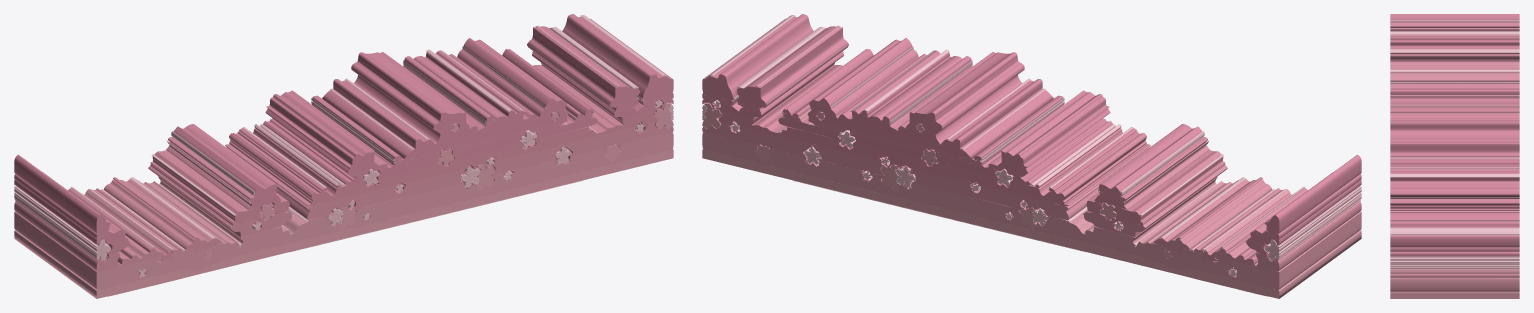
Rendered from cherry_blossoms_3D.fbx.
3 views of the same model, side by side, from view 1: azimuth 30°, elevation 25°; view 2: azimuth 150°, elevation 25°; view 3: azimuth 270°, elevation 25° (orthographic). The views are drawn at different scales.
Visible parts, largest first — view 1: path26; view 2: path26; view 3: path26.
Boxes of the visible parts, bbox=[...] form: path26: bbox=[14, 14, 673, 298]; path26: bbox=[702, 14, 1361, 298]; path26: bbox=[1390, 14, 1519, 298].
Size of the model in its own units: 20.22 by 3.42 by 5.
